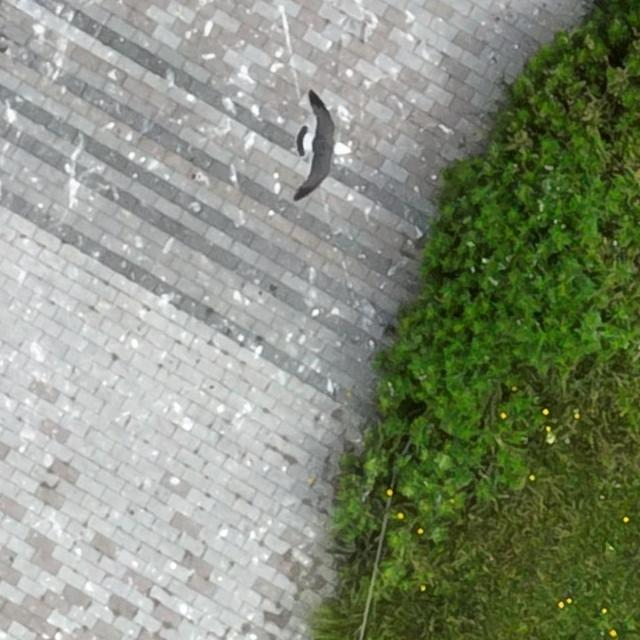F: (298, 99, 342, 192)
